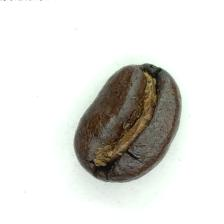NG: (92, 71, 165, 165)
